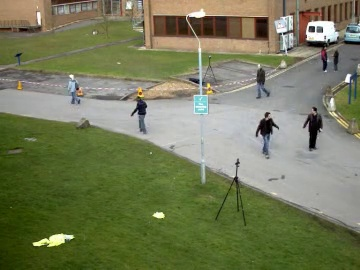person: (303, 107, 323, 150), (304, 107, 323, 151), (69, 76, 82, 105)
